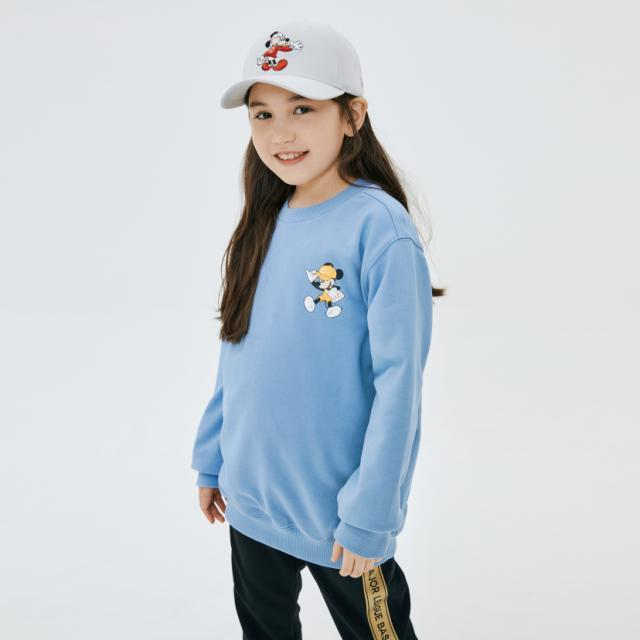sweater: (186, 174, 438, 576)
trousers: (224, 516, 419, 640)
